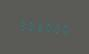six: (36, 19, 44, 33)
three: (17, 17, 25, 32)
zero: (26, 18, 34, 33), (54, 20, 62, 35), (63, 21, 71, 36), (45, 20, 53, 34)
